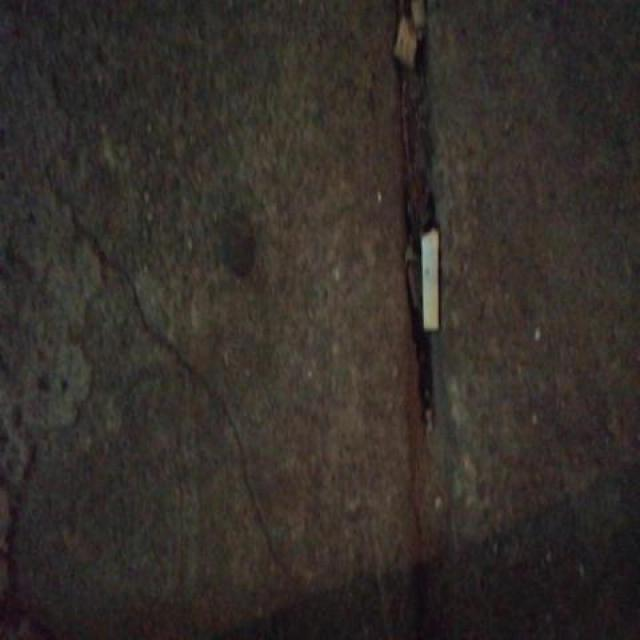non-organic waste: (417, 224, 443, 335)
